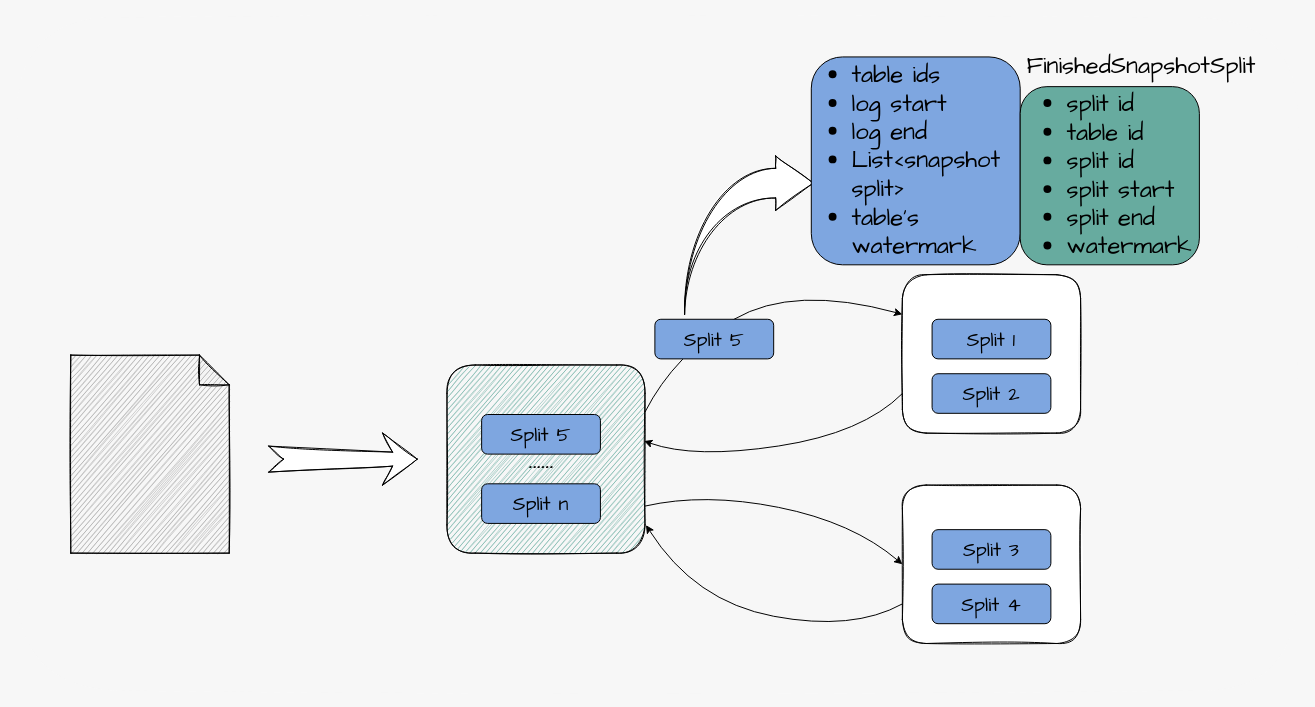
The diagram is 1315 pixels wide and 707 high, and some of its shapes have lost their labels. The box of each missing label's shape, as (x1, y1, x2, y2) in pixels:
data log: (70, 354, 229, 553)
Reader 1: (901, 274, 1081, 433)
Reader 2: (901, 484, 1081, 644)
SplitEnumerator: (446, 364, 645, 553)
